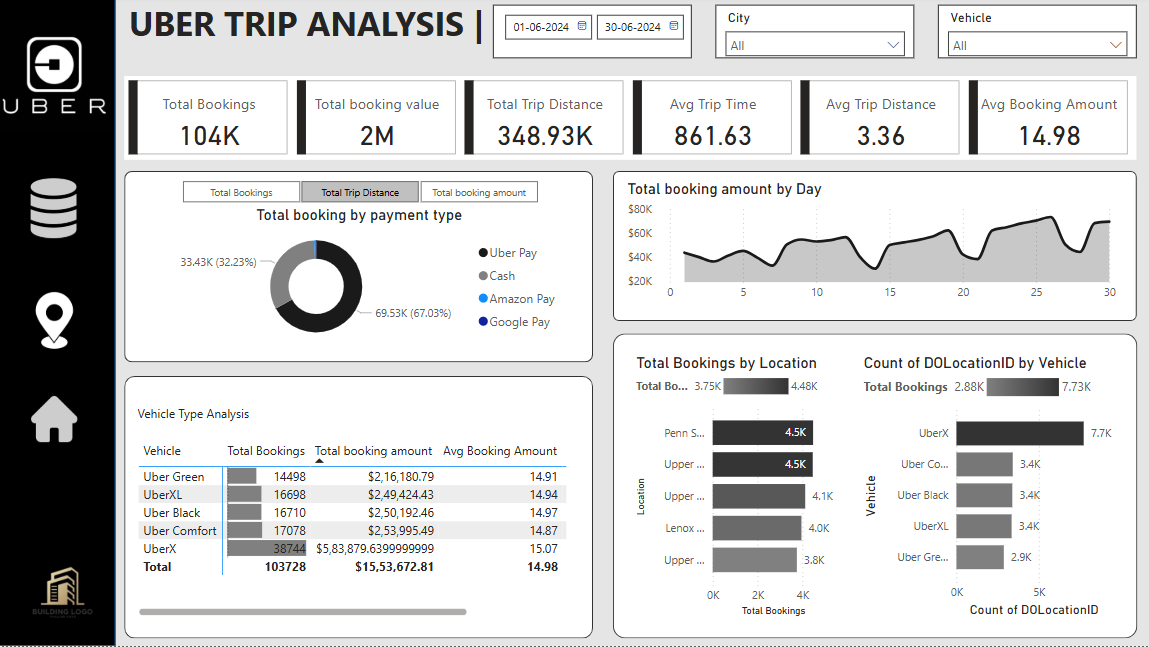

Layout of this report page (visuals, bound fields, positions):
{"tool":"powerbi","page":{"name":"Page 1","canvas":[1280,720],"ordinal":0},"visuals":[{"type":"shape","box":[0,0,135.6,719.7],"z":0},{"type":"textbox","box":[145.3,0,427.7,69.2],"z":1000},{"type":"cardVisual","fields":{"Data":["Calendar.Total Bookings","Calendar.Total booking amount","Calendar.Total Trip Distance","Calendar.Avg Trip Time","Calendar.Avg Trip Distance","Calendar.Avg Booking Amount"]},"box":[145.3,88.6,1121.1,92.7],"z":2000},{"type":"shape","box":[145.3,193.8,519,211.8],"z":3000},{"type":"slicer","fields":{"Values":["Parameter 2.Parameter"]},"box":[184.1,197.9,442.9,34.6],"z":4000},{"type":"donutChart","title":"Total booking by payment type ","fields":{"Category":["Trip Details.Payment_type"],"Y":["CountNonNull(Trip Details.Payment_type)"]},"box":[174.4,232.5,462.3,159.2],"z":5000},{"type":"shape","box":[145.3,420.8,519,290.7],"z":6000},{"type":"pivotTable","fields":{"Rows":["Trip Details.Vehicle"],"Values":["Calendar.Total Bookings","Calendar.Total booking amount","Calendar.Avg Booking Amount","Calendar.Total Trip Distance"]},"box":[156.4,487.1,483,204.5],"z":7000},{"type":"textbox","box":[155.1,448.7,644.9,38.4],"z":8000},{"type":"shape","box":[686.5,193.8,579.9,166.1],"z":9000},{"type":"areaChart","fields":{"Category":["Calendar.Date.Variation.Date Hierarchy.Day"],"Y":["Calendar.Total booking amount"]},"box":[697.6,203.5,553.6,142.6],"z":10000},{"type":"shape","box":[686.1,373.2,580.4,337.6],"z":11000},{"type":"barChart","fields":{"Y":["Calendar.Total Bookings"],"Category":["Location Table.Location"]},"box":[707.3,395.8,236.7,296.2],"z":12000},{"type":"barChart","fields":{"Category":["Trip Details.Vehicle"],"Y":["CountNonNull(Trip Details.DOLocationID)"]},"box":[959.2,395.8,292,296.2],"z":13000},{"type":"slicer","fields":{"Values":["Calendar.Date"]},"box":[553.6,9.7,220.1,59.5],"z":14000},{"type":"slicer","fields":{"Values":["Location Table.City"]},"box":[800,9.7,220.1,59.5],"z":15000},{"type":"image","box":[0,20.8,135.6,134.3],"z":16000},{"type":"image","box":[0,600.7,153.6,119],"z":17000},{"type":"image","box":[20.8,312.8,94.1,92.7],"z":18000},{"type":"image","box":[29.1,193.8,76.1,81.7],"z":19000},{"type":"image","box":[37.4,433.2,60.9,70.6],"z":20000},{"type":"slicer","fields":{"Values":["Trip Details.Vehicle"]},"box":[1046.4,9.7,220.1,59.5],"z":20001}]}

Visuals, with their boxes in screenshot pixels (x1, y1, x2, y2), scaled from the page's 1280x720 canvas onto the 1149x647 screenshot:
shape: detection(0, 0, 122, 646)
textbox: detection(130, 0, 514, 62)
cardVisual - Calendar.Total Bookings x Calendar.Total booking amount: detection(130, 80, 1137, 163)
shape: detection(130, 174, 596, 364)
slicer - Parameter 2.Parameter: detection(165, 178, 563, 209)
"Total booking by payment type " donutChart: detection(157, 209, 572, 352)
shape: detection(130, 378, 596, 639)
pivotTable - Trip Details.Vehicle x Calendar.Total Bookings: detection(140, 438, 574, 621)
textbox: detection(139, 403, 718, 438)
shape: detection(616, 174, 1137, 323)
areaChart - Calendar.Date.Variation.Date Hierarchy.Day x Calendar.Total booking amount: detection(626, 183, 1123, 311)
shape: detection(616, 335, 1137, 639)
barChart - Calendar.Total Bookings x Location Table.Location: detection(635, 356, 847, 622)
barChart - Trip Details.Vehicle x CountNonNull(Trip Details.DOLocationID): detection(861, 356, 1123, 622)
slicer - Calendar.Date: detection(497, 9, 695, 62)
slicer - Location Table.City: detection(718, 9, 916, 62)
image: detection(0, 19, 122, 139)
image: detection(0, 540, 138, 646)
image: detection(19, 281, 103, 364)
image: detection(26, 174, 94, 248)
image: detection(34, 389, 88, 453)
slicer - Trip Details.Vehicle: detection(939, 9, 1137, 62)
